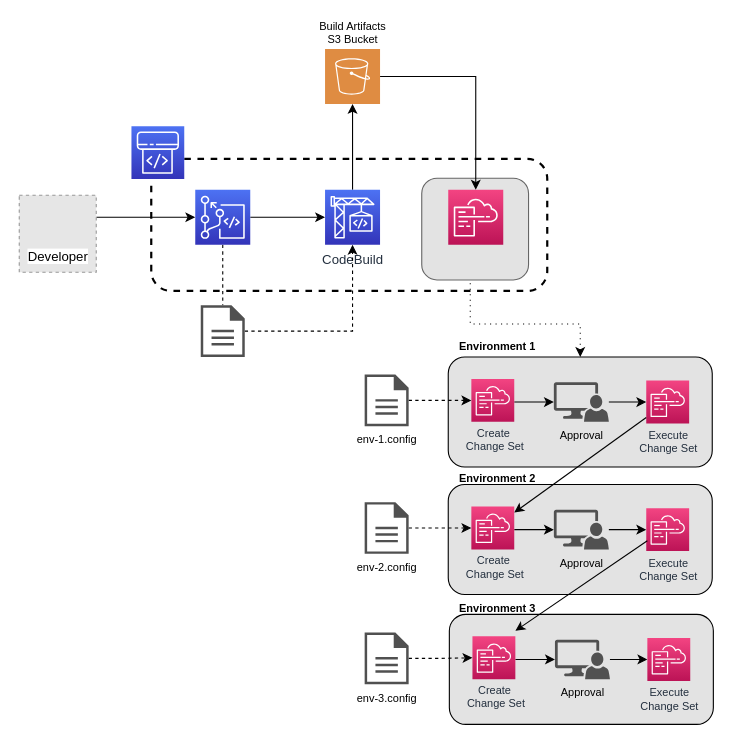
The diagram is 733 pixels wide and 744 high, and some of its shapes have lost their labels. Grey dashed boxes stand in for pictures. Here are the shapes that lost their labels. From the top down, the centre of each, then its label:
point 157,152: AWS CodePipeline
point 222,217: AWS CodeCommit
point 475,217: CloudFormation
point 222,330: buildspec.yml
